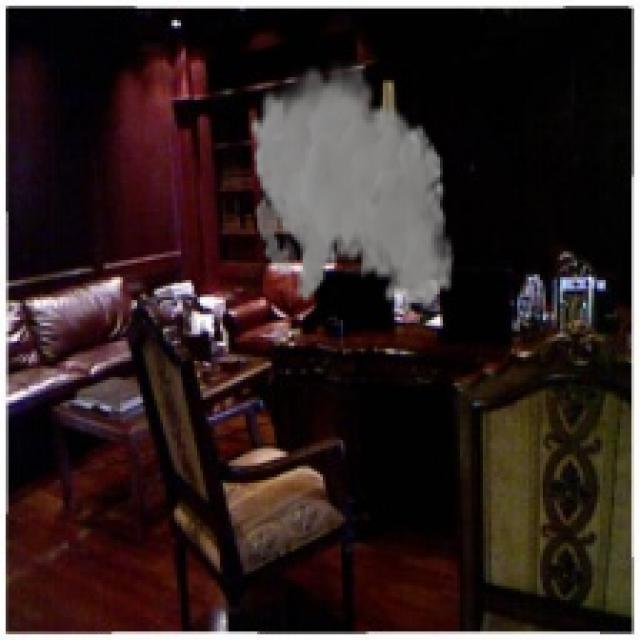Smoke: (248, 54, 454, 317)
